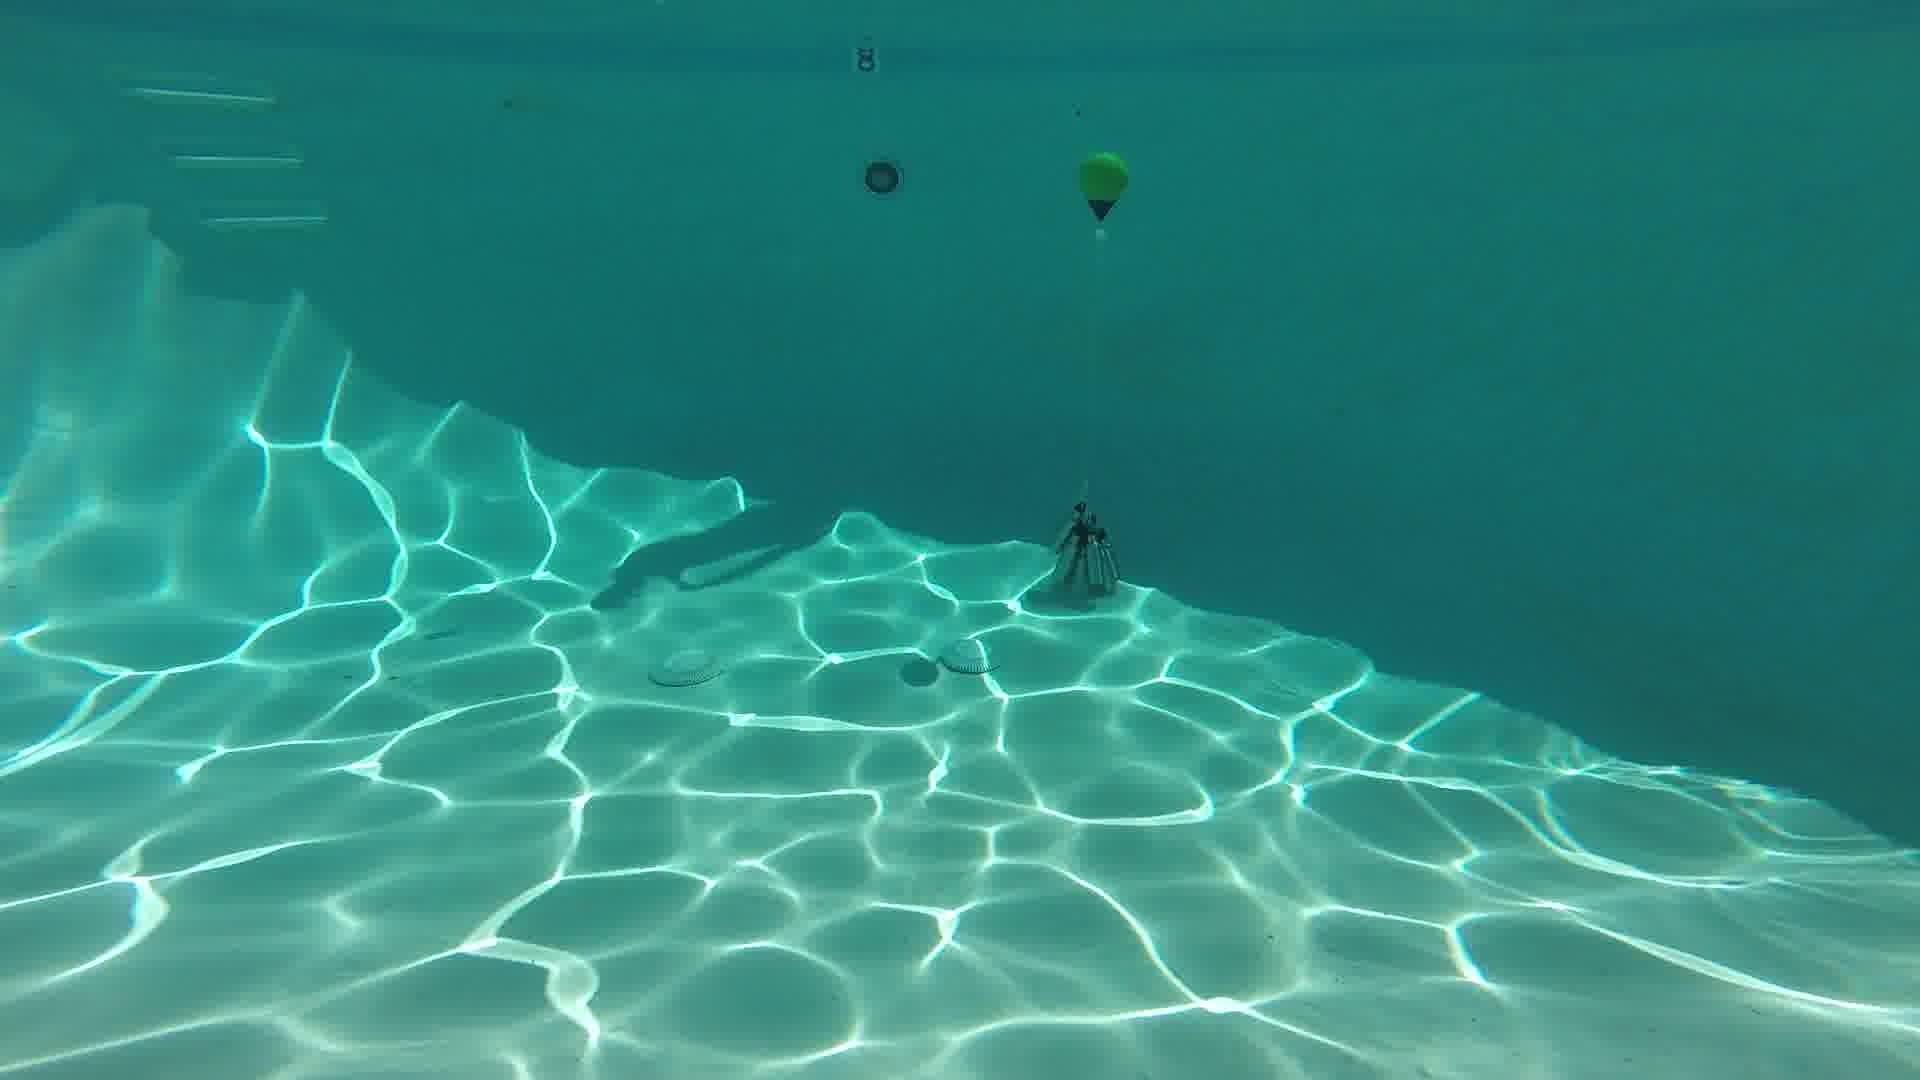yellow_buoy: (1077, 152, 1125, 219)
